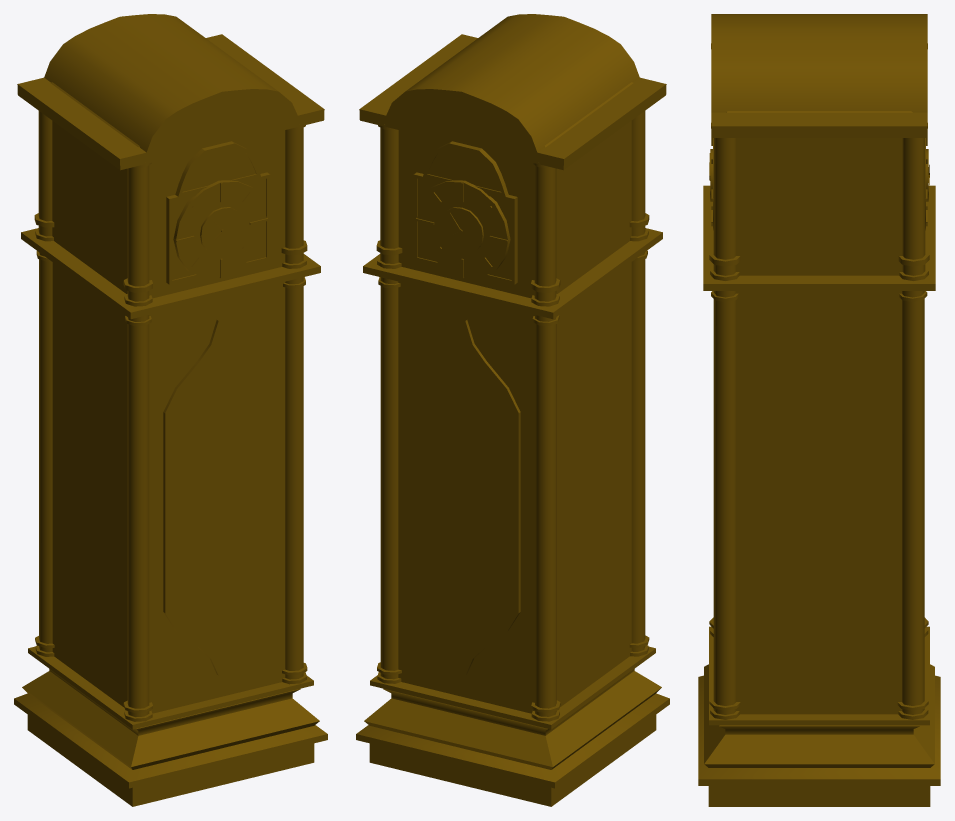
The model's file is horloges_sans_ID.fbx.
3 renders of one model, left to right at view 1: azimuth 30°, elevation 25°; view 2: azimuth 150°, elevation 25°; view 3: azimuth 270°, elevation 25°, orthographic. The views are drawn at different scales.
Parts seen in each view (by area): view 1: corps1, centre_transparent, haut, pCylinder19, pCylinder20, pCylinder18, pCube4, heure, pCylinder15, pCylinder16, pCylinder11, polySurface3; view 2: corps1, centre_transparent, haut, pCylinder18, pCylinder3, pCylinder19, pCube4, heure, pCylinder11, pCylinder17, pCylinder15, polySurface3; view 3: corps1, haut, pCylinder20, pCylinder3, pCylinder16, pCylinder17.
Boxes of the visible parts, <box> form: corps1: <box>14,82,327,806</box>; centre_transparent: <box>163,320,271,675</box>; haut: <box>17,14,324,170</box>; pCylinder19: <box>123,315,152,721</box>; pCylinder20: <box>282,277,307,684</box>; pCylinder18: <box>35,251,54,656</box>; pCube4: <box>166,141,270,284</box>; heure: <box>173,180,266,277</box>; pCylinder15: <box>123,162,152,306</box>; pCylinder16: <box>281,124,307,268</box>; pCylinder11: <box>34,111,54,241</box>; polySurface3: <box>200,207,243,253</box>; corps1: <box>356,82,669,806</box>; centre_transparent: <box>412,320,520,675</box>; haut: <box>359,14,666,170</box>; pCylinder18: <box>531,315,560,721</box>; pCylinder3: <box>377,277,401,683</box>; pCylinder19: <box>629,250,649,656</box>; pCube4: <box>413,141,517,284</box>; heure: <box>417,180,510,277</box>; pCylinder11: <box>531,162,560,306</box>; pCylinder17: <box>376,124,402,268</box>; pCylinder15: <box>629,111,649,241</box>; polySurface3: <box>440,207,483,253</box>; corps1: <box>698,111,940,806</box>; haut: <box>711,14,927,137</box>; pCylinder20: <box>709,291,740,719</box>; pCylinder3: <box>897,291,928,719</box>; pCylinder16: <box>709,123,740,280</box>; pCylinder17: <box>898,123,929,280</box>.
Bounding box in the file's own units: 58.7 × 190 × 57.05.
